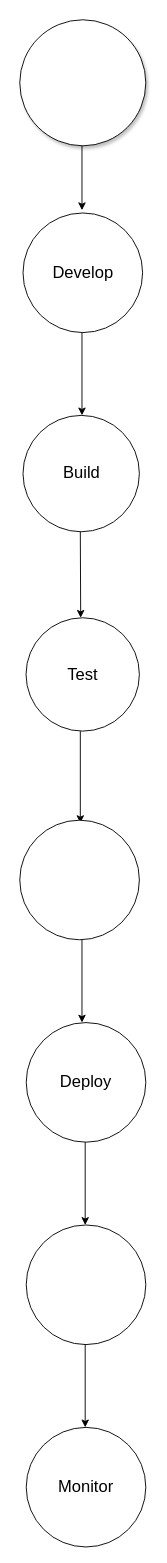
This 167x1563 diagram has some shape labels left out. Here are the shapes that lost their labels. From the top down, the centre of each, then its label:
At (83,83): "plan".
At (79,879): "Release".
At (85,1284): "Organise".
